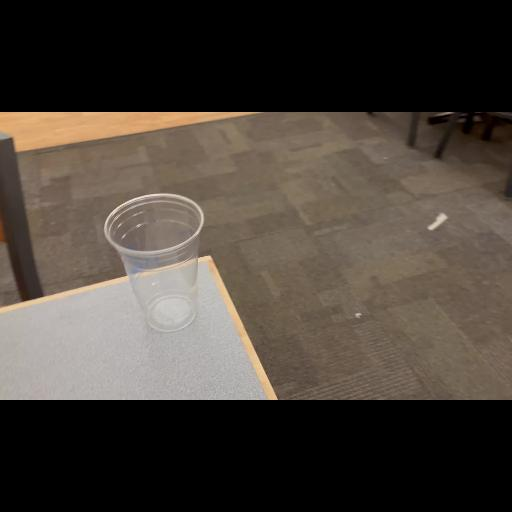lp_plastic_cup: (96, 192, 212, 334)
